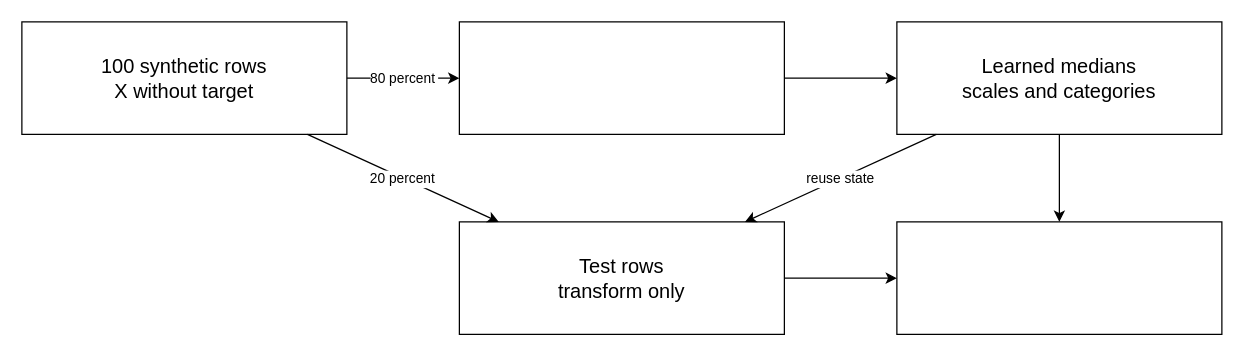
The diagram is 1244 pixels wide and 356 high, and some of its shapes have lost their labels. The centre of each missing label's shape, as x and y in pixels:
Same output columns missing-value check: point (1059, 277)
Training rows fit_transform: point (621, 77)
